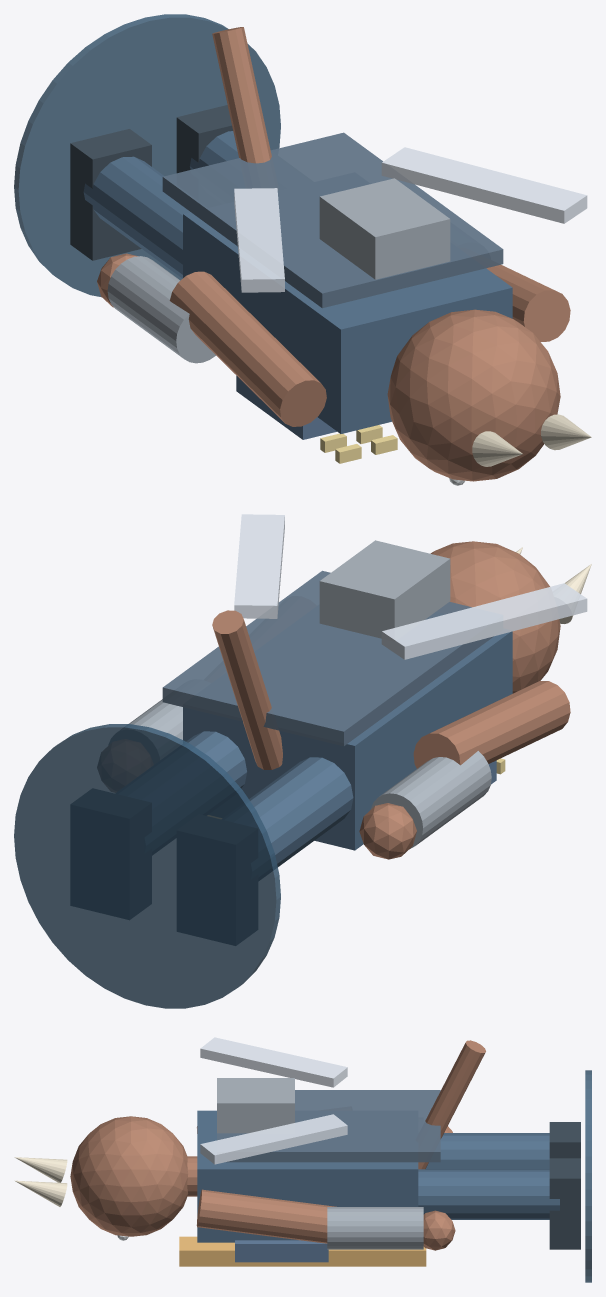
Rendered from SW_NPC_037_lyra_horizonward.glb.
3 views of the same model, one above another, from view 1: azimuth 30°, elevation 25°; view 2: azimuth 150°, elevation 25°; view 3: azimuth 270°, elevation 25° (orthographic). The views are drawn at different scales.
Parts seen in each view (by area): view 1: round_base_plate, head, torso_uniform, storm_cloak, left_upper_arm, wingpack_core, left_leg, right_wing_rig, left_forearm_gauntlet, left_boot, left_wing_rig, dragon_tail (+7 smaller); view 2: round_base_plate, storm_cloak, torso_uniform, wingpack_core, head, left_upper_arm, left_wing_rig, left_leg, left_forearm_gauntlet, dragon_tail, right_wing_rig, left_hand (+2 smaller); view 3: head, torso_uniform, storm_cloak, right_leg, right_upper_arm, right_forearm_gauntlet, left_leg, wingpack_core, rank_sash, right_wing_rig, left_wing_rig, right_boot (+8 smaller).
Boxes of the visible parts, box(x1,y1,x2,y2) form: round_base_plate: box(14, 14, 280, 297); head: box(387, 309, 560, 481); torso_uniform: box(183, 212, 512, 433); storm_cloak: box(162, 132, 503, 308); left_upper_arm: box(169, 271, 326, 426); wingpack_core: box(319, 178, 450, 279); left_leg: box(83, 156, 190, 278); right_wing_rig: box(381, 147, 587, 223); left_forearm_gauntlet: box(107, 256, 215, 363); left_boot: box(70, 129, 151, 260); left_wing_rig: box(234, 188, 284, 292); dragon_tail: box(212, 27, 271, 163); round_base_plate: box(14, 724, 280, 1008); storm_cloak: box(162, 570, 493, 746); torso_uniform: box(183, 631, 512, 850); wingpack_core: box(319, 540, 450, 638); head: box(430, 541, 560, 693); left_upper_arm: box(413, 681, 570, 768); left_wing_rig: box(381, 583, 587, 659); left_leg: box(249, 757, 353, 867); left_forearm_gauntlet: box(371, 751, 491, 848); dragon_tail: box(212, 610, 282, 769); right_wing_rig: box(234, 514, 284, 618); left_hand: box(359, 803, 416, 859); head: box(70, 1116, 188, 1236); torso_uniform: box(197, 1110, 418, 1242); storm_cloak: box(217, 1090, 440, 1162); right_leg: box(418, 1169, 559, 1219); right_upper_arm: box(196, 1189, 336, 1243); right_forearm_gauntlet: box(327, 1207, 423, 1249); left_leg: box(425, 1133, 549, 1169); wingpack_core: box(217, 1078, 294, 1133); rank_sash: box(179, 1236, 426, 1266); right_wing_rig: box(200, 1114, 347, 1164); left_wing_rig: box(200, 1037, 347, 1087); right_boot: box(549, 1158, 580, 1249).
Size of the model in its own units: 1.16 by 1.06 by 2.4.
